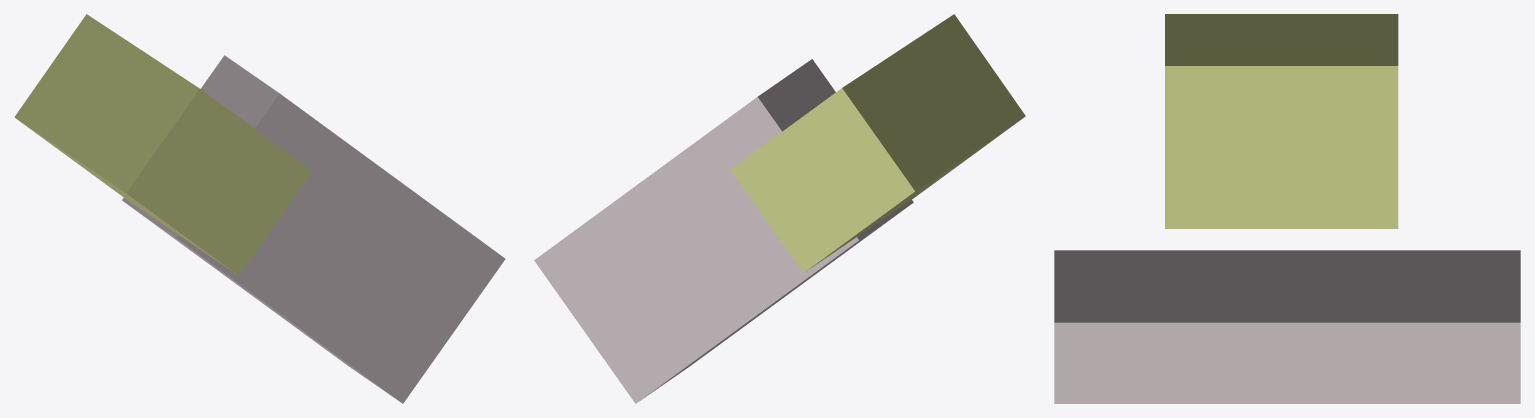
The picture shows the model from 3 angles, left to right: view 1: azimuth 30°, elevation 25°; view 2: azimuth 150°, elevation 25°; view 3: azimuth 270°, elevation 25°; orthographic projection. The views are drawn at different scales.
Visible parts, largest first — view 1: 0_1_2_0_3_2_0_0_3_1; view 2: 0_1_2_0_3_2_0_0_3_1; view 3: 0_1_2_0_3_2_0_0_3_1.
Boxes of the visible parts, bbox=[...] form: 0_1_2_0_3_2_0_0_3_1: bbox=[14, 14, 505, 403]; 0_1_2_0_3_2_0_0_3_1: bbox=[534, 14, 1025, 403]; 0_1_2_0_3_2_0_0_3_1: bbox=[1054, 14, 1520, 403].
Bounding box in the file's own units: 9.96 × 8.92 × 12.
